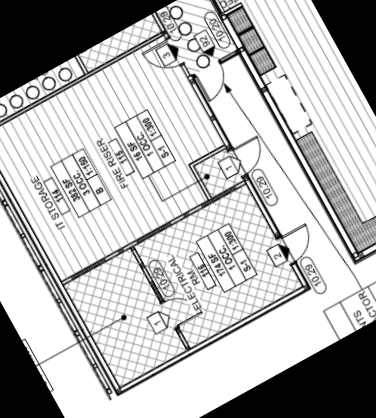door: (155, 278, 210, 334), (275, 217, 324, 266), (227, 130, 273, 177), (138, 37, 183, 82), (192, 61, 234, 103)
